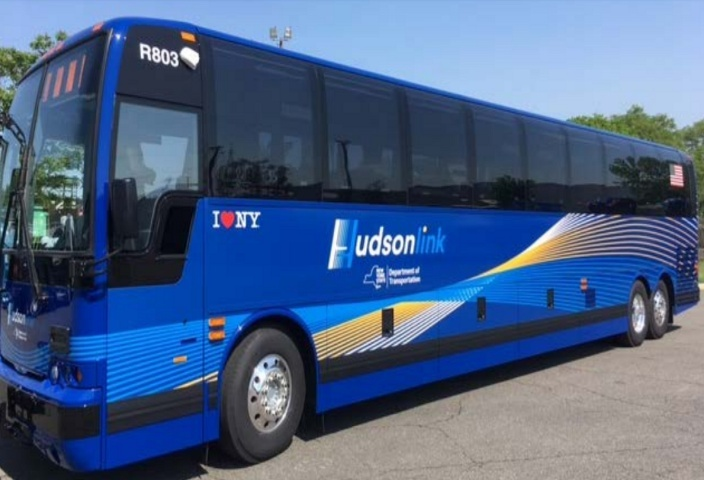bus: (5, 11, 704, 460)
